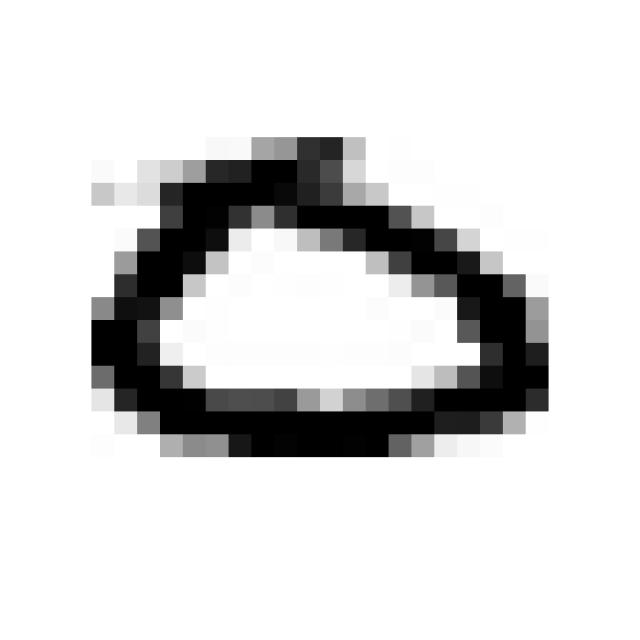5 -five-: (75, 124, 566, 476)
